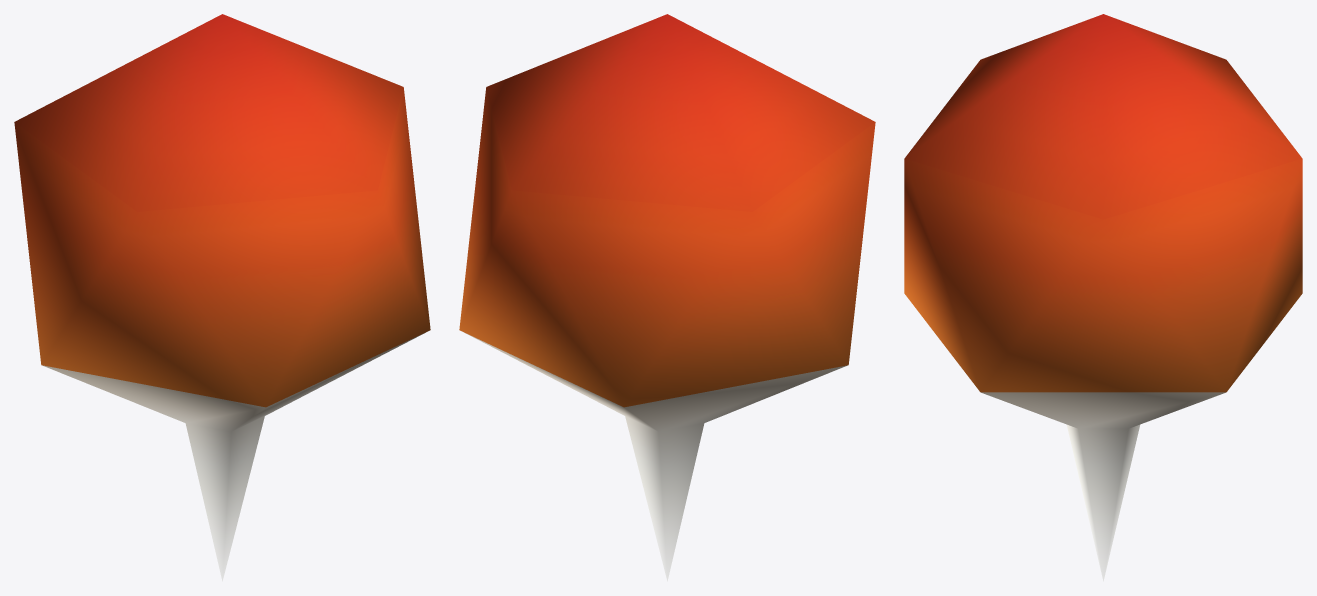
Rendered from bobber.fbx.
3 views of the same model, side by side, from view 1: azimuth 30°, elevation 25°; view 2: azimuth 150°, elevation 25°; view 3: azimuth 270°, elevation 25° (orthographic).
Visible parts, largest first — view 1: bobber; view 2: bobber; view 3: bobber.
Boxes of the visible parts, box(x1,y1,x2,y2) form: bobber: box(14, 14, 430, 581); bobber: box(459, 14, 875, 581); bobber: box(904, 14, 1302, 581).
Bounding box in the file's own units: 7.7 × 11.52 × 7.32.
